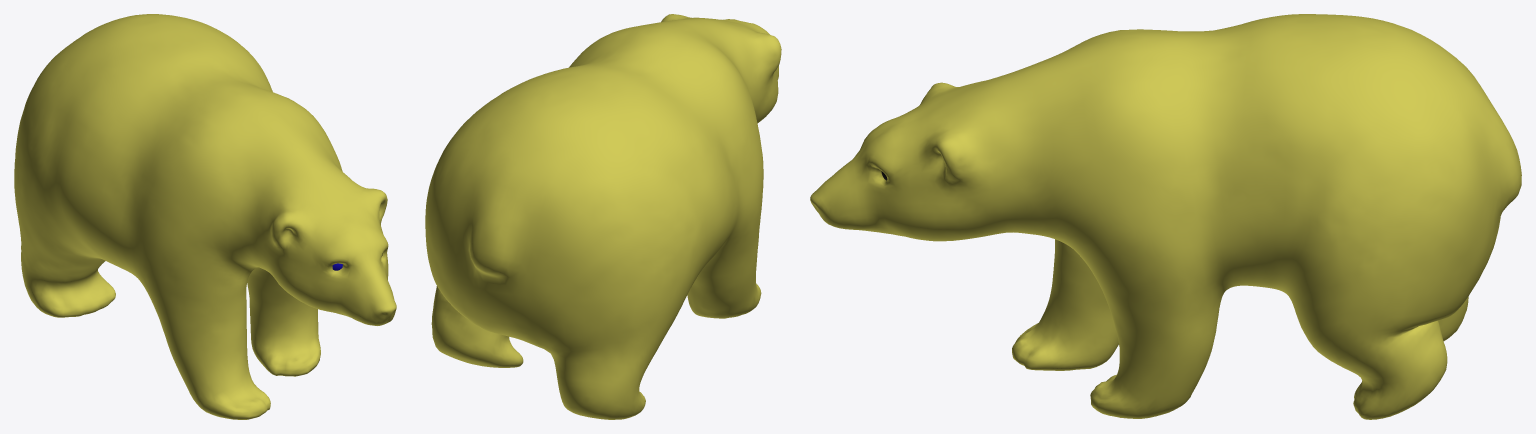
The model's file is polar_bear.obj.
3 views of the same model, side by side, from view 1: azimuth 30°, elevation 25°; view 2: azimuth 150°, elevation 25°; view 3: azimuth 270°, elevation 25° (orthographic). The views are drawn at different scales.
Parts seen in each view (by area): view 1: PB_Body_WaxDynaMesh129_001; view 2: PB_Body_WaxDynaMesh129_001; view 3: PB_Body_WaxDynaMesh129_001.
Part boxes in pixels (left/top/right/bottom): PB_Body_WaxDynaMesh129_001: left=14, top=14, right=396, bottom=419; PB_Body_WaxDynaMesh129_001: left=425, top=14, right=781, bottom=419; PB_Body_WaxDynaMesh129_001: left=810, top=14, right=1521, bottom=419.
Bounding box in the file's own units: 1.82 × 2.05 × 3.74.
